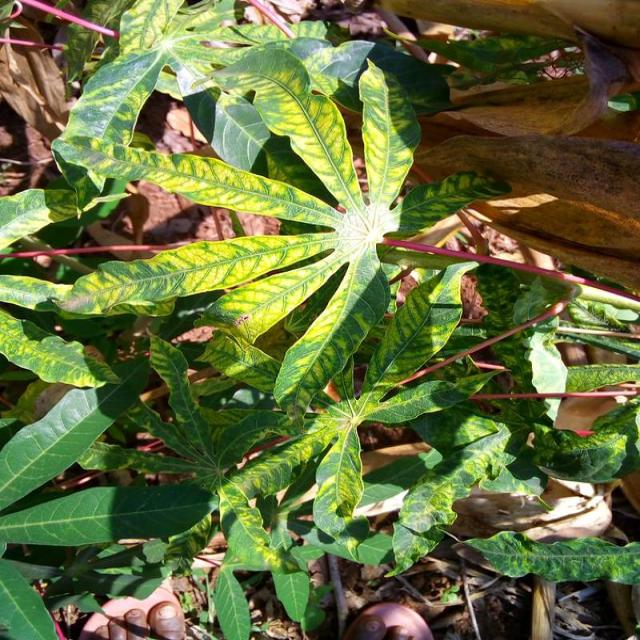cassava leaf: (1, 1, 636, 635), (51, 35, 510, 420)
